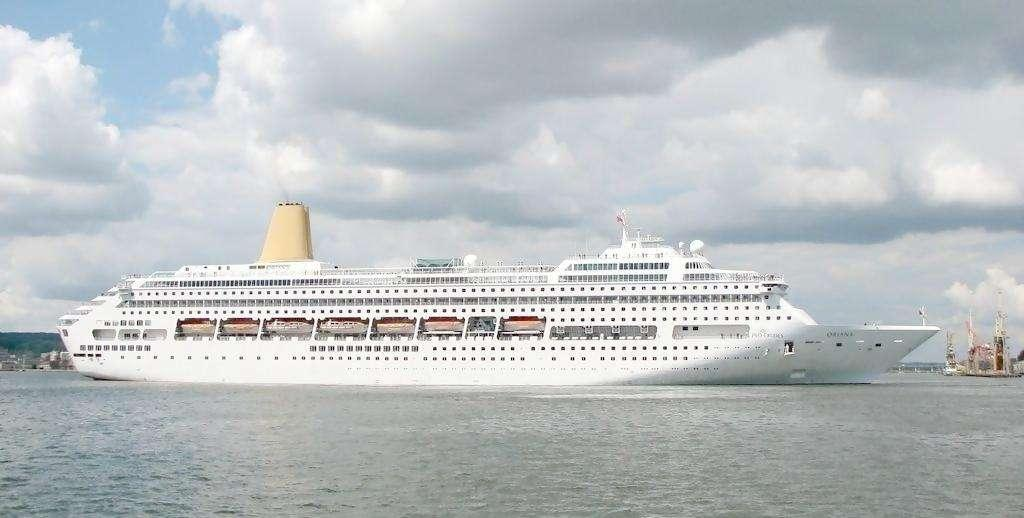youlun: (52, 201, 942, 387)
